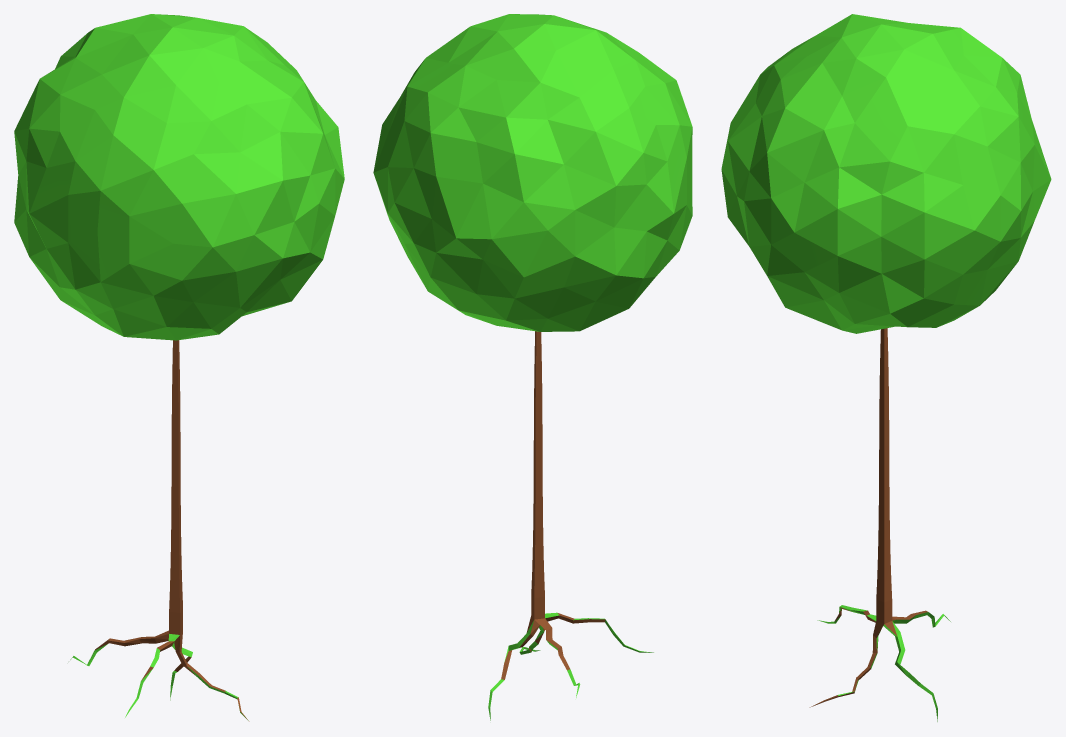
File: tree3.fbx
3 views of the same model, side by side, from view 1: azimuth 30°, elevation 25°; view 2: azimuth 150°, elevation 25°; view 3: azimuth 270°, elevation 25° (orthographic). The views are drawn at different scales.
Parts seen in each view (by area): view 1: TreeModel50242211; view 2: TreeModel50242211; view 3: TreeModel50242211.
Boxes of the visible parts, x1,y1,x2,y2 form: TreeModel50242211: (14,14,344,721); TreeModel50242211: (373,14,692,720); TreeModel50242211: (721,14,1051,721).
Size of the model in its own units: 500 by 1188 by 518.
